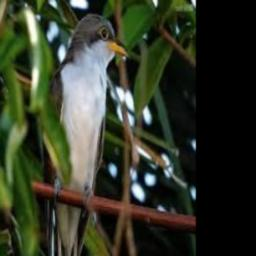Cuckoo: (44, 14, 128, 256)
